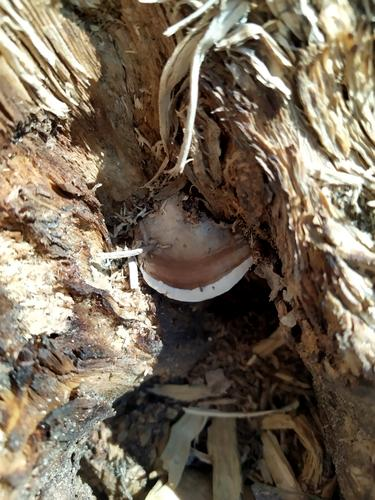Ganoderma - Fruit Body: (130, 194, 259, 303)
